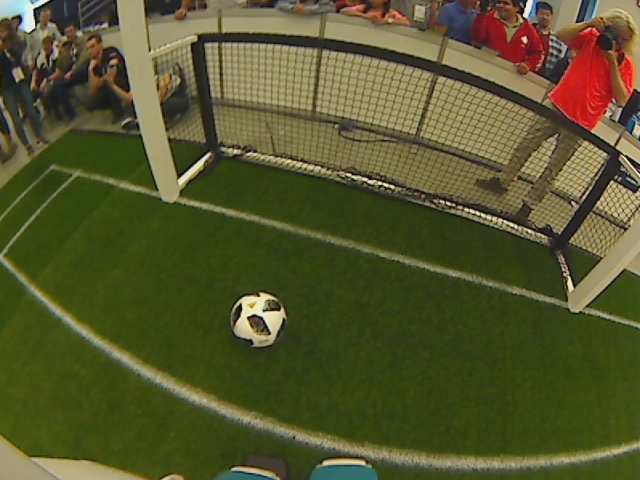ball: (227, 292, 289, 348)
